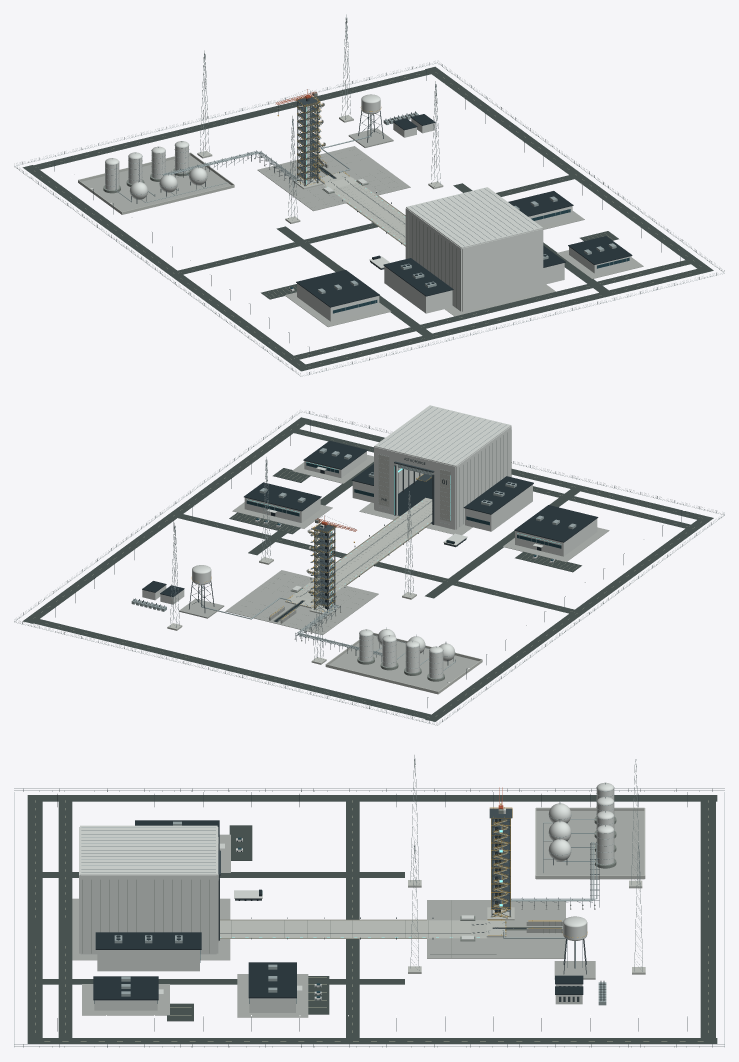
Rendered from launch-complex.glb.
3 renders of one model, top to bottom at view 1: azimuth 30°, elevation 25°; view 2: azimuth 150°, elevation 25°; view 3: azimuth 270°, elevation 25°, orthographic. The views are drawn at different scales.
Parts seen in each view (by area): view 1: 10 Roads landscape and perimeter / road, 04 Vehicle assembly building / shell, 01 Pad and flame channel / concrete, 09 Operations campus / dark, 05 Cryogenic tank farm / concrete, 05 Cryogenic tank farm / shell, 09 Operations campus / shell, 03 VAB transport corridor / concreteLight, 10 Roads landscape and perimeter / silver, 02 Service tower / steel, 09 Operations campus / concrete, 08 Lightning protection / silver (+6 smaller); view 2: 10 Roads landscape and perimeter / road, 04 Vehicle assembly building / shell, 01 Pad and flame channel / concrete, 09 Operations campus / dark, 03 VAB transport corridor / concreteLight, 05 Cryogenic tank farm / concrete, 09 Operations campus / shell, 05 Cryogenic tank farm / shell, 04 Vehicle assembly building / dark, 09 Operations campus / concrete, 10 Roads landscape and perimeter / silver, 02 Service tower / steel (+10 smaller); view 3: 10 Roads landscape and perimeter / road, 04 Vehicle assembly building / shell, 01 Pad and flame channel / concrete, 03 VAB transport corridor / concreteLight, 05 Cryogenic tank farm / concrete, 09 Operations campus / dark, 10 Roads landscape and perimeter / silver, 09 Operations campus / concrete, 05 Cryogenic tank farm / shell, 04 Vehicle assembly building / silver, 04 Vehicle assembly building / dark, 02 Service tower / steel (+14 smaller).
Part boxes in pixels (x1,y1,x2,y2): 10 Roads landscape and perimeter / road: (22, 66, 713, 371); 04 Vehicle assembly building / shell: (384, 187, 564, 313); 01 Pad and flame channel / concrete: (257, 146, 410, 211); 09 Operations campus / dark: (296, 191, 632, 307); 05 Cryogenic tank farm / concrete: (81, 155, 230, 211); 05 Cryogenic tank farm / shell: (105, 141, 207, 199); 09 Operations campus / shell: (297, 206, 631, 321); 03 VAB transport corridor / concreteLight: (323, 177, 405, 244); 10 Roads landscape and perimeter / silver: (14, 61, 724, 376); 02 Service tower / steel: (278, 91, 325, 185); 09 Operations campus / concrete: (285, 211, 643, 327); 08 Lightning protection / silver: (200, 14, 440, 220); 10 Roads landscape and perimeter / road: (23, 417, 713, 721); 04 Vehicle assembly building / shell: (352, 405, 532, 531); 01 Pad and flame channel / concrete: (225, 570, 378, 634); 09 Operations campus / dark: (244, 440, 598, 550); 03 VAB transport corridor / concreteLight: (291, 497, 432, 600); 05 Cryogenic tank farm / concrete: (329, 635, 478, 691); 09 Operations campus / shell: (244, 451, 597, 556); 05 Cryogenic tank farm / shell: (359, 629, 454, 678); 04 Vehicle assembly building / dark: (351, 464, 533, 523); 09 Operations campus / concrete: (232, 455, 609, 561); 10 Roads landscape and perimeter / silver: (14, 411, 724, 725); 02 Service tower / steel: (307, 516, 354, 612); 10 Roads landscape and perimeter / road: (27, 795, 717, 1043); 04 Vehicle assembly building / shell: (79, 825, 218, 971); 01 Pad and flame channel / concrete: (427, 900, 565, 958); 03 VAB transport corridor / concreteLight: (220, 920, 487, 938); 05 Cryogenic tank farm / concrete: (536, 811, 644, 875); 09 Operations campus / dark: (93, 820, 296, 1000); 10 Roads landscape and perimeter / silver: (14, 788, 724, 1047); 09 Operations campus / concrete: (82, 834, 308, 1017); 05 Cryogenic tank farm / shell: (548, 782, 614, 864); 04 Vehicle assembly building / silver: (81, 827, 215, 943); 04 Vehicle assembly building / dark: (95, 932, 201, 949); 02 Service tower / steel: (489, 808, 512, 918).
Bounding box in the file's own units: 400 × 95.38 × 470.
